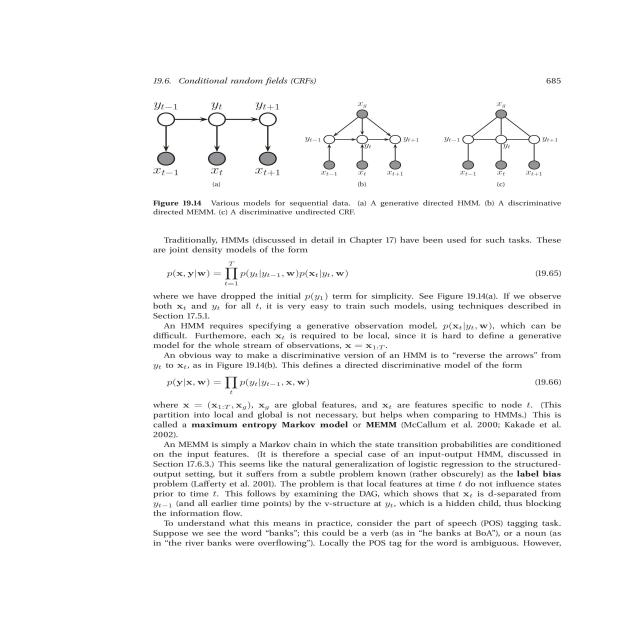diagram: (129, 93, 586, 228)
